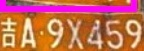A: (20, 18, 36, 48)
